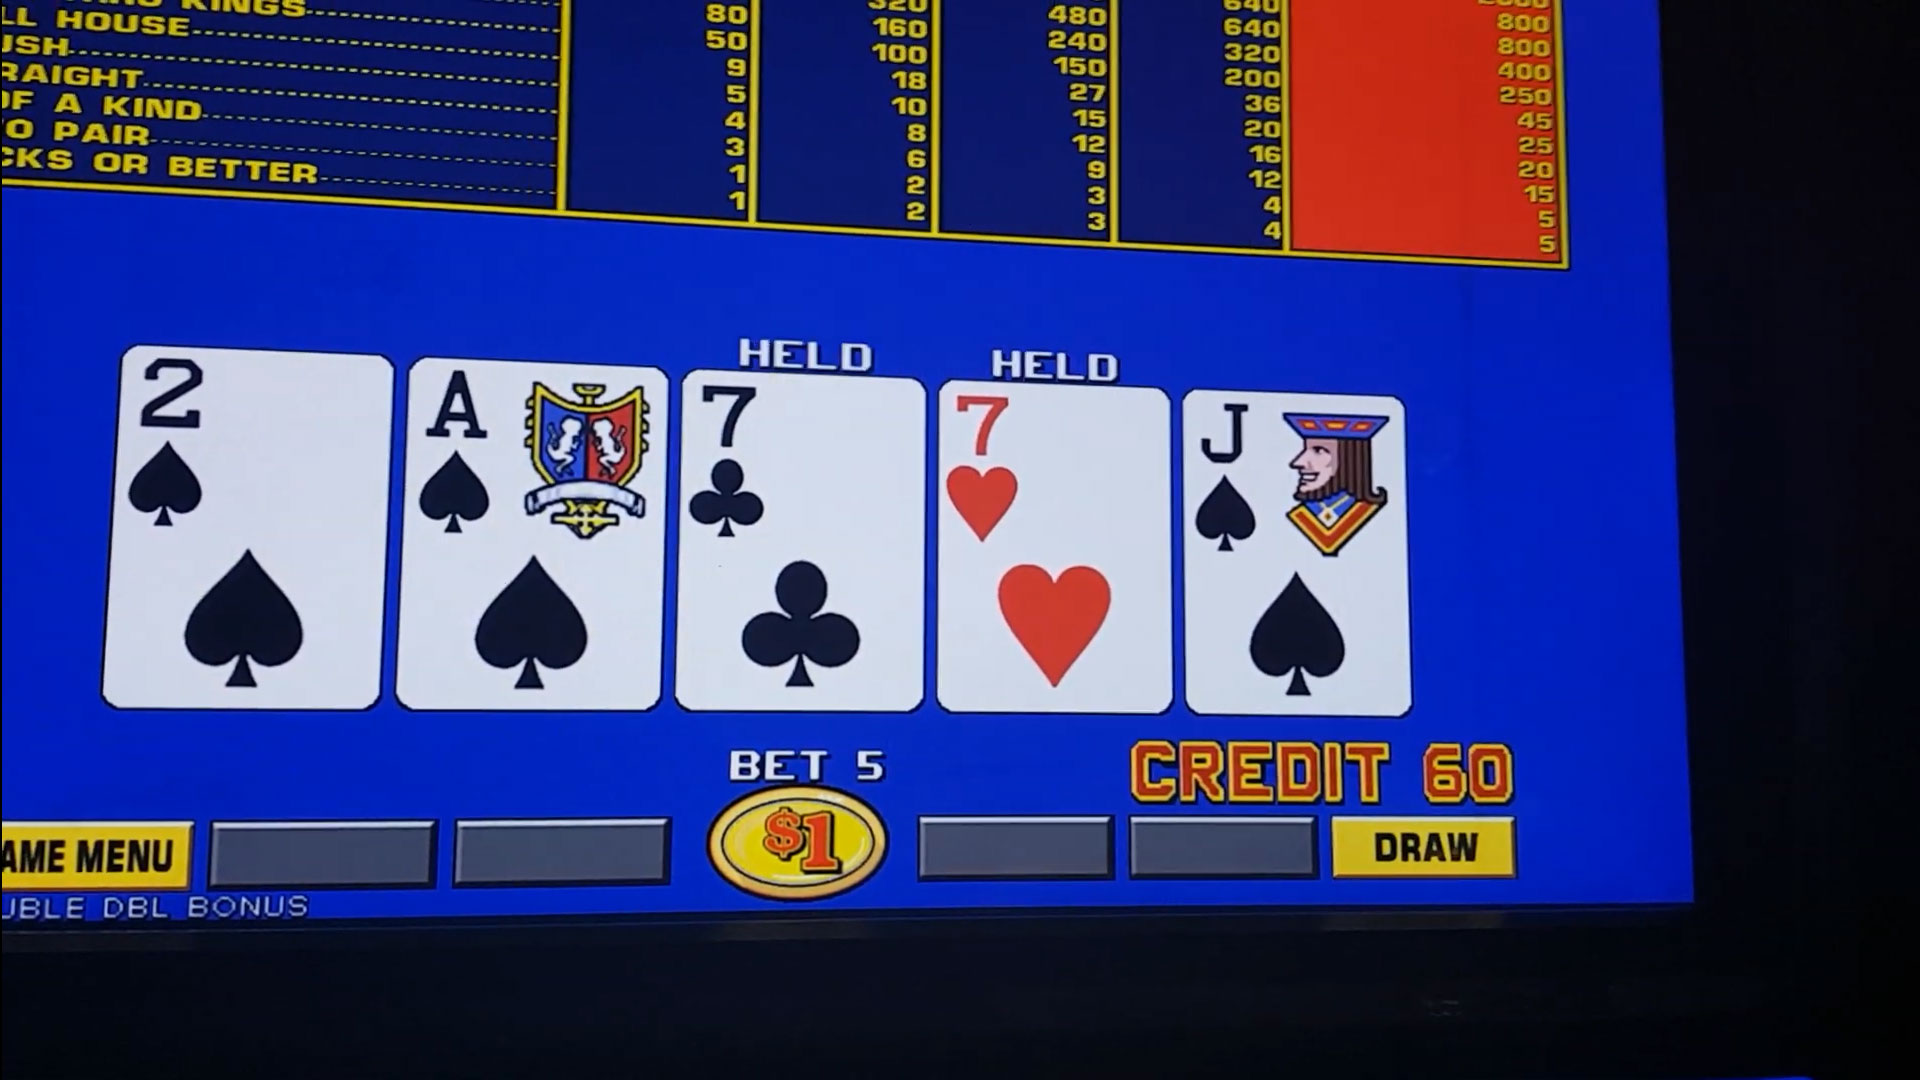C7: (682, 376, 922, 550)
H7: (942, 388, 1178, 563)
S2: (129, 360, 381, 535)
SA: (415, 367, 659, 541)
SJ: (1184, 398, 1399, 562)
